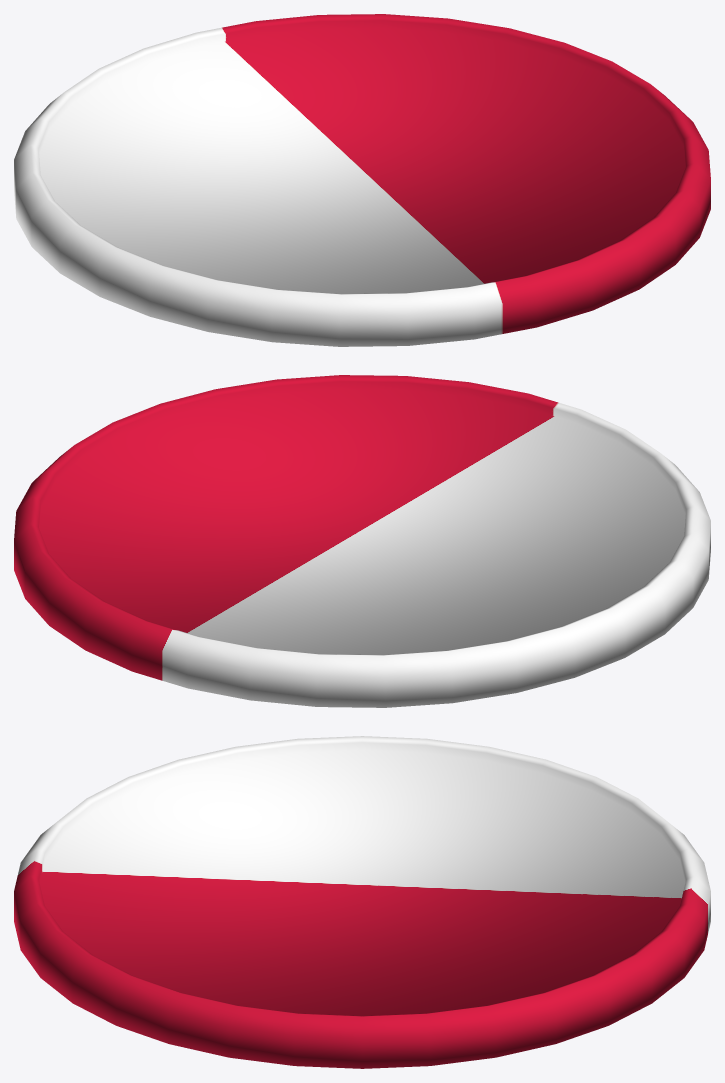
File: PolandFlagRound.fbx
3 views of the same model, one above another, from view 1: azimuth 30°, elevation 25°; view 2: azimuth 150°, elevation 25°; view 3: azimuth 270°, elevation 25° (orthographic).
Parts seen in each view (by area): view 1: Circle; view 2: Circle; view 3: Circle.
Boxes of the visible parts, x1=… form: Circle: x1=14, y1=14, x2=710, y2=346; Circle: x1=14, y1=375, x2=710, y2=707; Circle: x1=14, y1=736, x2=710, y2=1068.
Bounding box in the file's own units: 200 × 14.34 × 200.
Materials: 1 (1 with a texture image).
